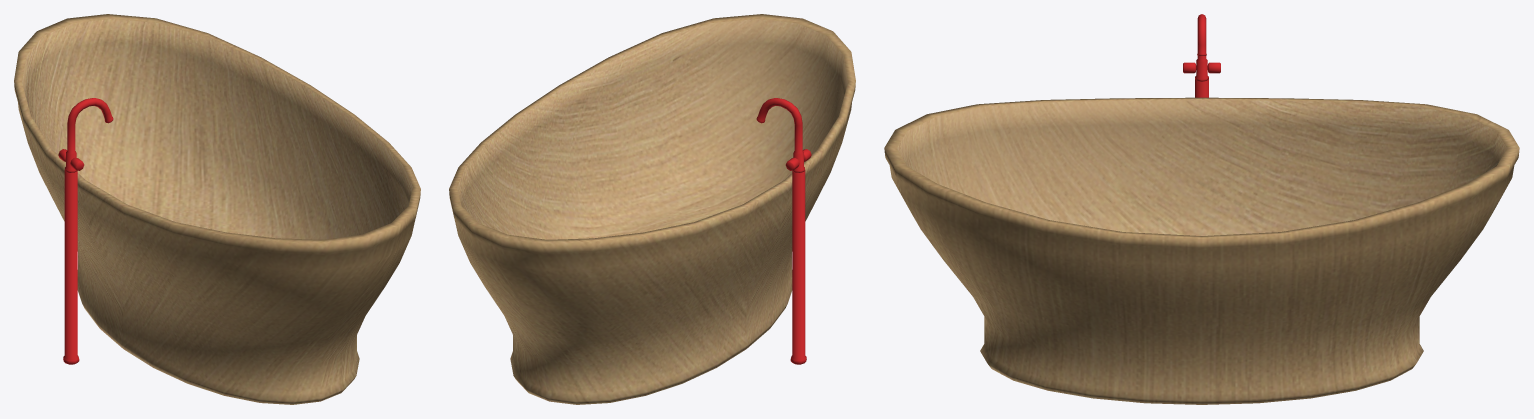
Rendered from MOD_FUR_Bathtub_01.fbx.
3 views of the same model, side by side, from view 1: azimuth 30°, elevation 25°; view 2: azimuth 150°, elevation 25°; view 3: azimuth 270°, elevation 25° (orthographic). The views are drawn at different scales.
Parts seen in each view (by area): view 1: HSHP_MOD_Bathtub; view 2: HSHP_MOD_Bathtub; view 3: HSHP_MOD_Bathtub.
Part boxes in pixels (x1=…): HSHP_MOD_Bathtub: x1=14, y1=14, x2=420, y2=404; HSHP_MOD_Bathtub: x1=449, y1=14, x2=855, y2=404; HSHP_MOD_Bathtub: x1=884, y1=14, x2=1519, y2=404.
Size of the model in its own units: 0.9695 by 0.8243 by 1.74.
